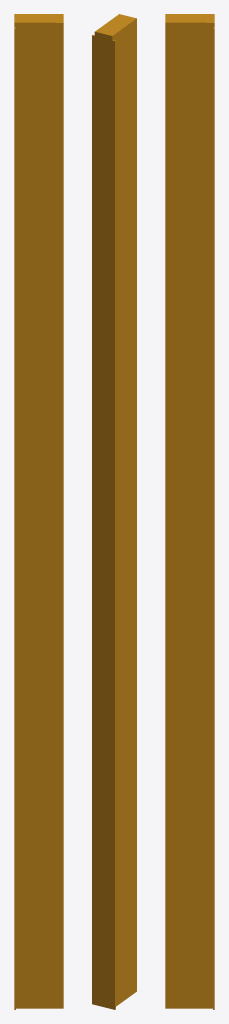
The model's file is body0.FBX.
3 renders of one model, left to right at view 1: azimuth 90°, elevation 25°; view 2: azimuth 150°, elevation 25°; view 3: azimuth 270°, elevation 25°, orthographic.
Parts seen in each view (by area): view 1: body; view 2: body; view 3: body.
Boxes of the visible parts, bbox=[...] form: body: bbox=[14, 14, 63, 1009]; body: bbox=[92, 14, 136, 1009]; body: bbox=[165, 14, 214, 1009].
Bounding box in the file's own units: 21.66 × 870 × 39.48.
